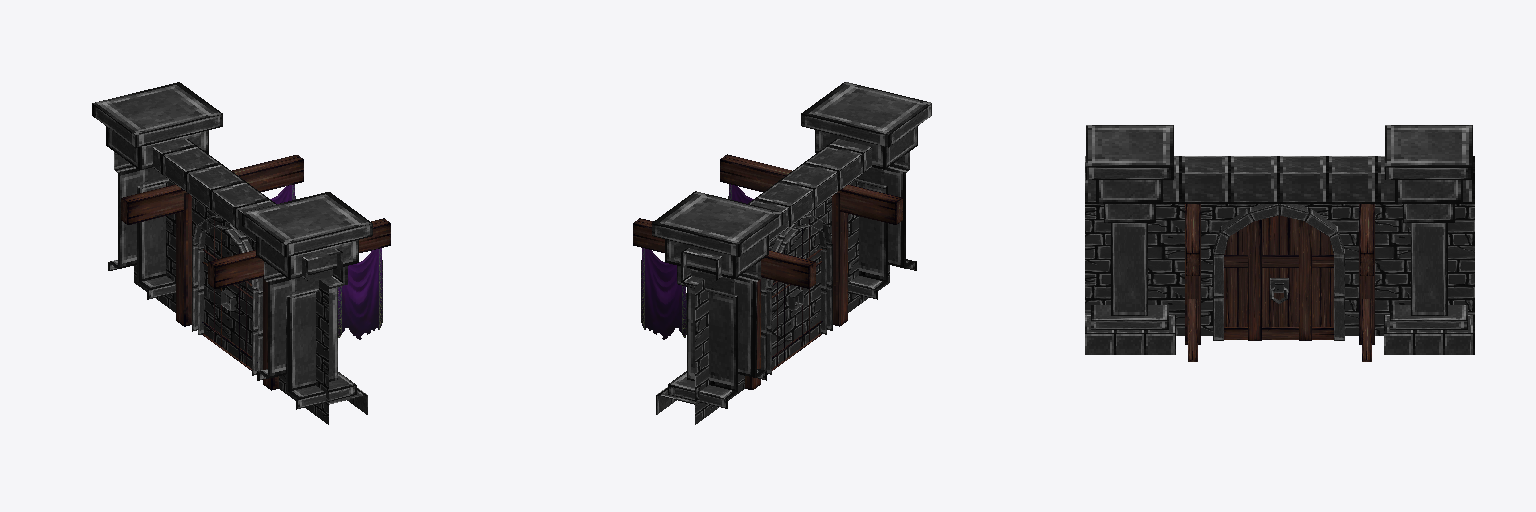
3 views of the same model, side by side, from view 1: azimuth 30°, elevation 25°; view 2: azimuth 150°, elevation 25°; view 3: azimuth 270°, elevation 25° (orthographic).
Visible parts, largest first — view 1: Plane.000; view 2: Plane.000; view 3: Plane.000.
Part boxes in pixels (x1,y1,x2,y2): Plane.000: (92,82,390,424); Plane.000: (633,82,931,424); Plane.000: (1085,125,1474,361).
Size of the model in its own units: 7.2 by 7.69 by 13.79.
Materials: 5 (5 with a texture image).